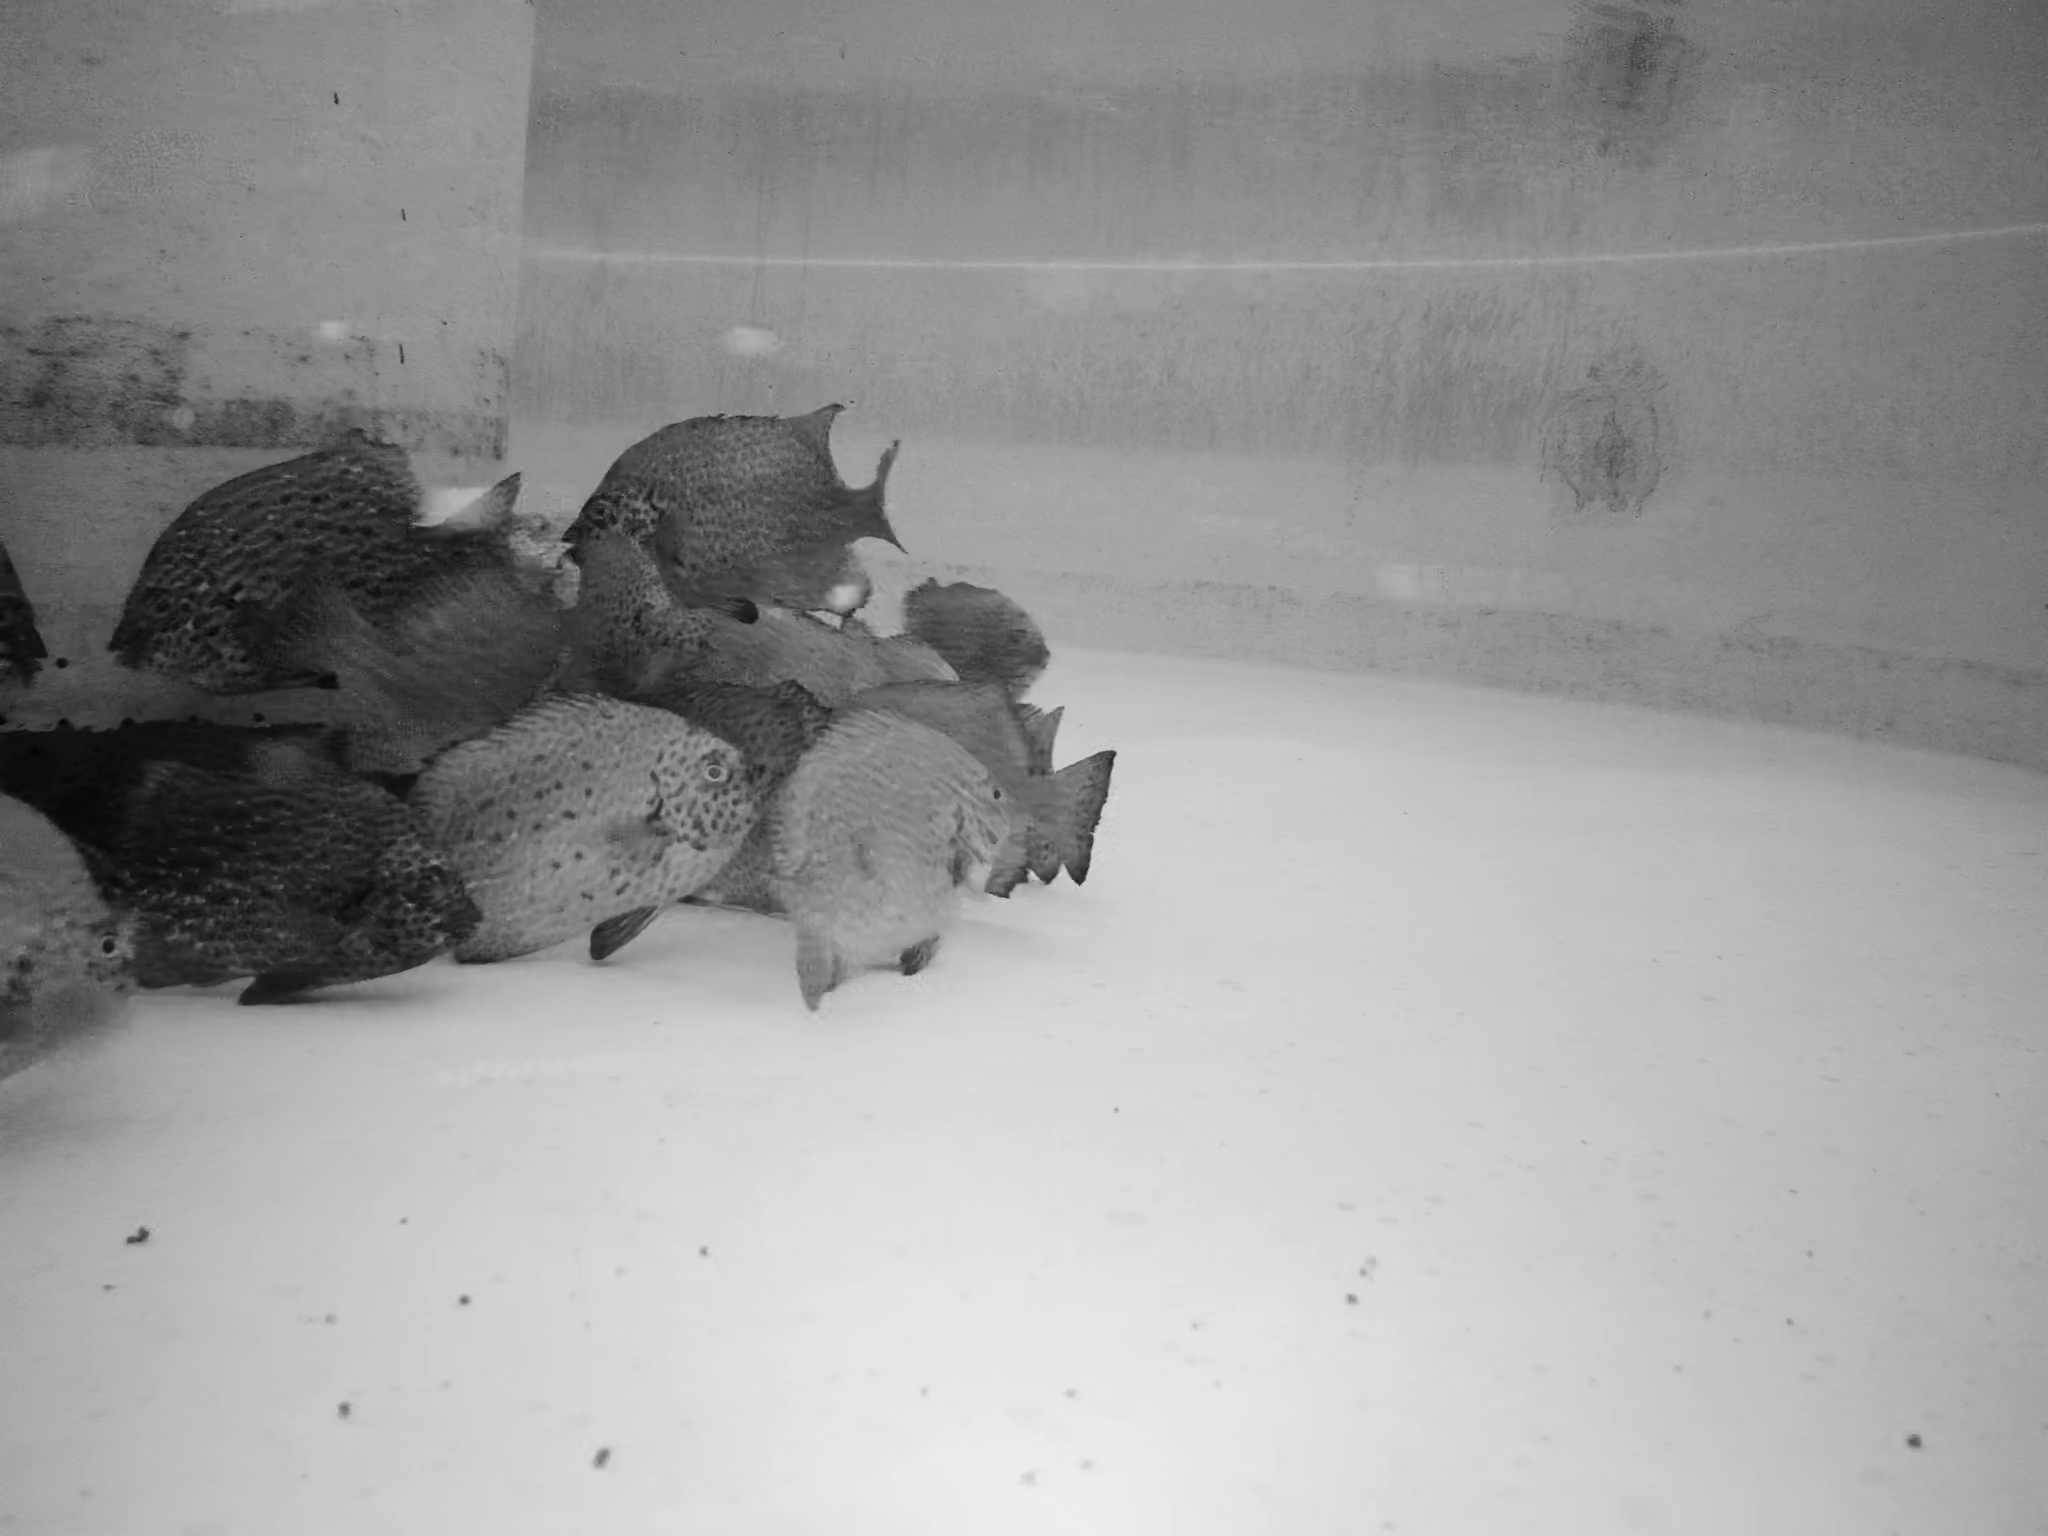fish: (403, 702, 761, 995), (106, 453, 526, 684), (121, 773, 490, 1013), (563, 400, 908, 586), (761, 728, 1018, 976), (837, 671, 1109, 891), (2, 794, 134, 1096), (672, 602, 961, 729), (566, 531, 687, 691), (903, 576, 1050, 699), (2, 553, 47, 757)
